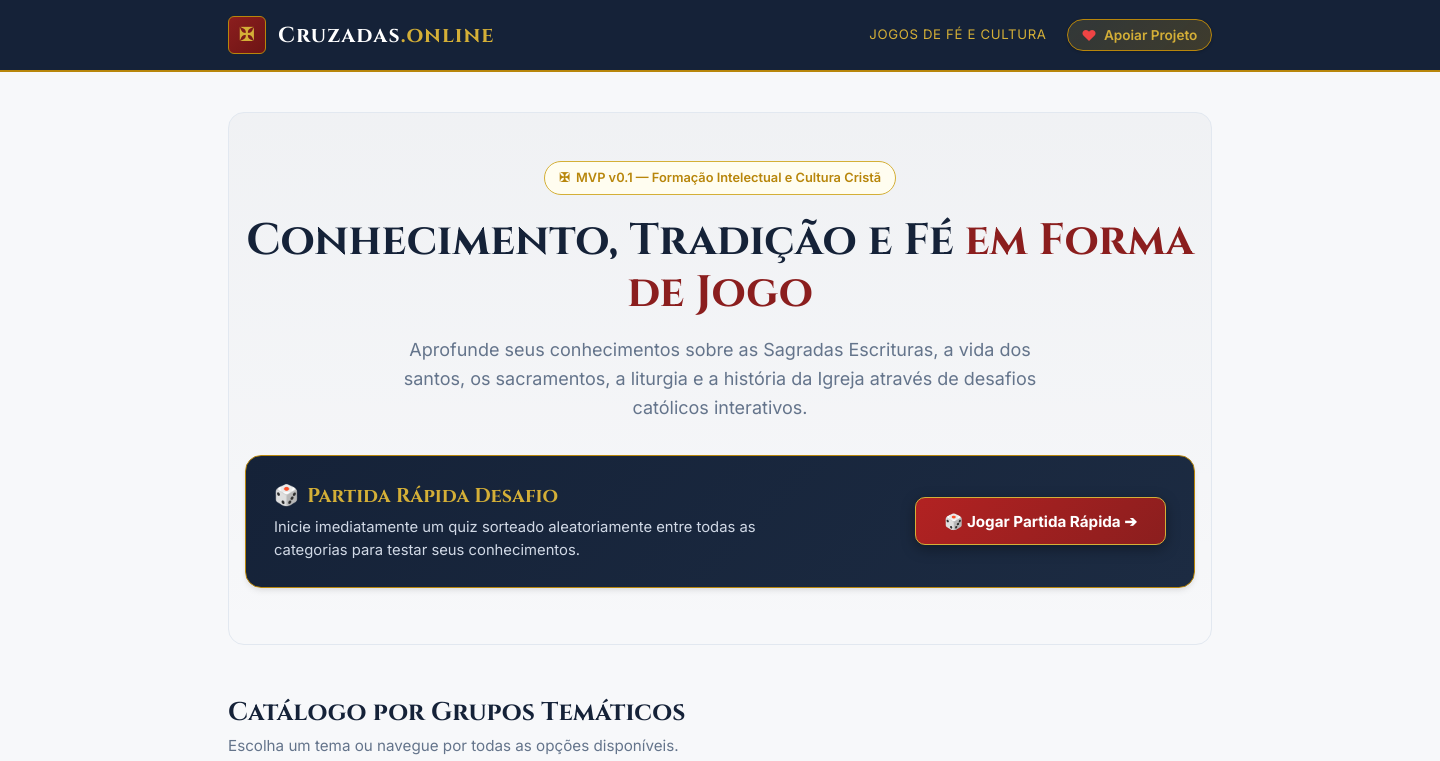
Test: Fluxo Completo do Quiz Católico no Cruzadas.online › deve permitir iniciar uma partida rápida com quiz aleatório a partir do botão hero da home
The image size is (1440, 761).
Check: the heading "🎲 Partida Rápida Desafio" is shown, box [274, 482, 558, 509]
Step 1. Click the button with aria-label "jogar partida rápida com quiz aleatório" → (1041, 521), box [915, 497, 1166, 545]
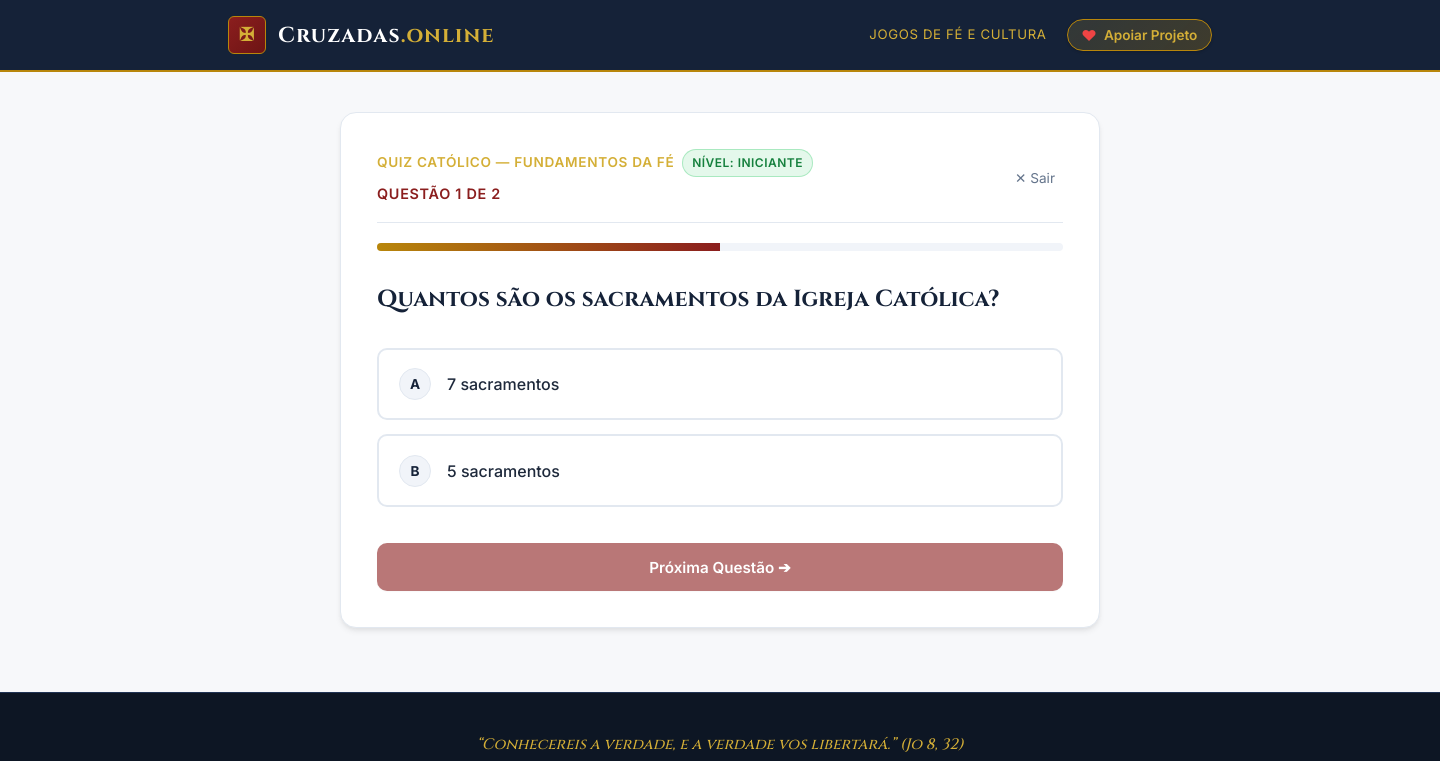
Check: the heading "Quantos são os sacramentos da Igreja Católica?" is shown, box [377, 283, 1063, 316]
Step 2. Click the text "7 sacramentos" → (503, 384), box [447, 374, 559, 394]
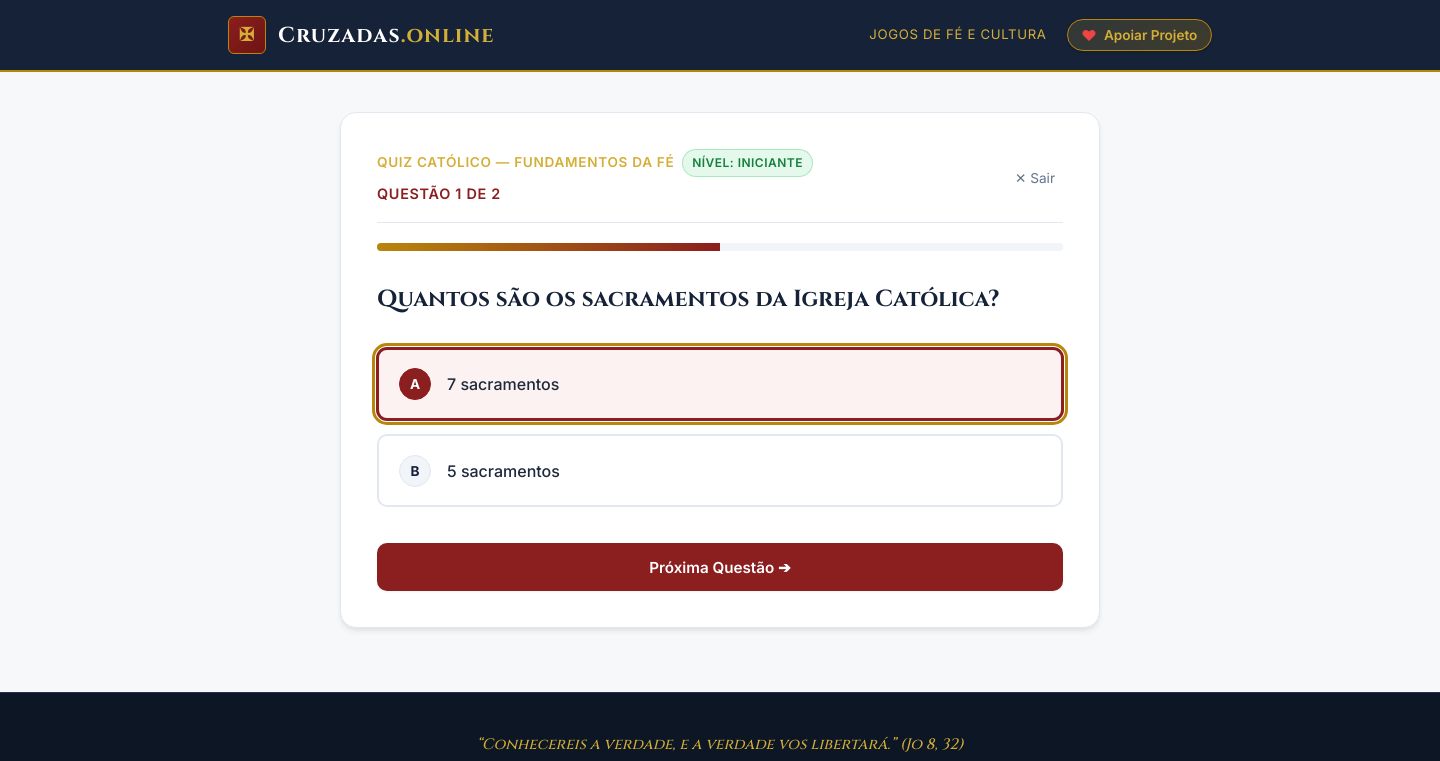
Step 3. Click the button "Próxima Questão ➔" → (720, 567), box [377, 543, 1063, 591]
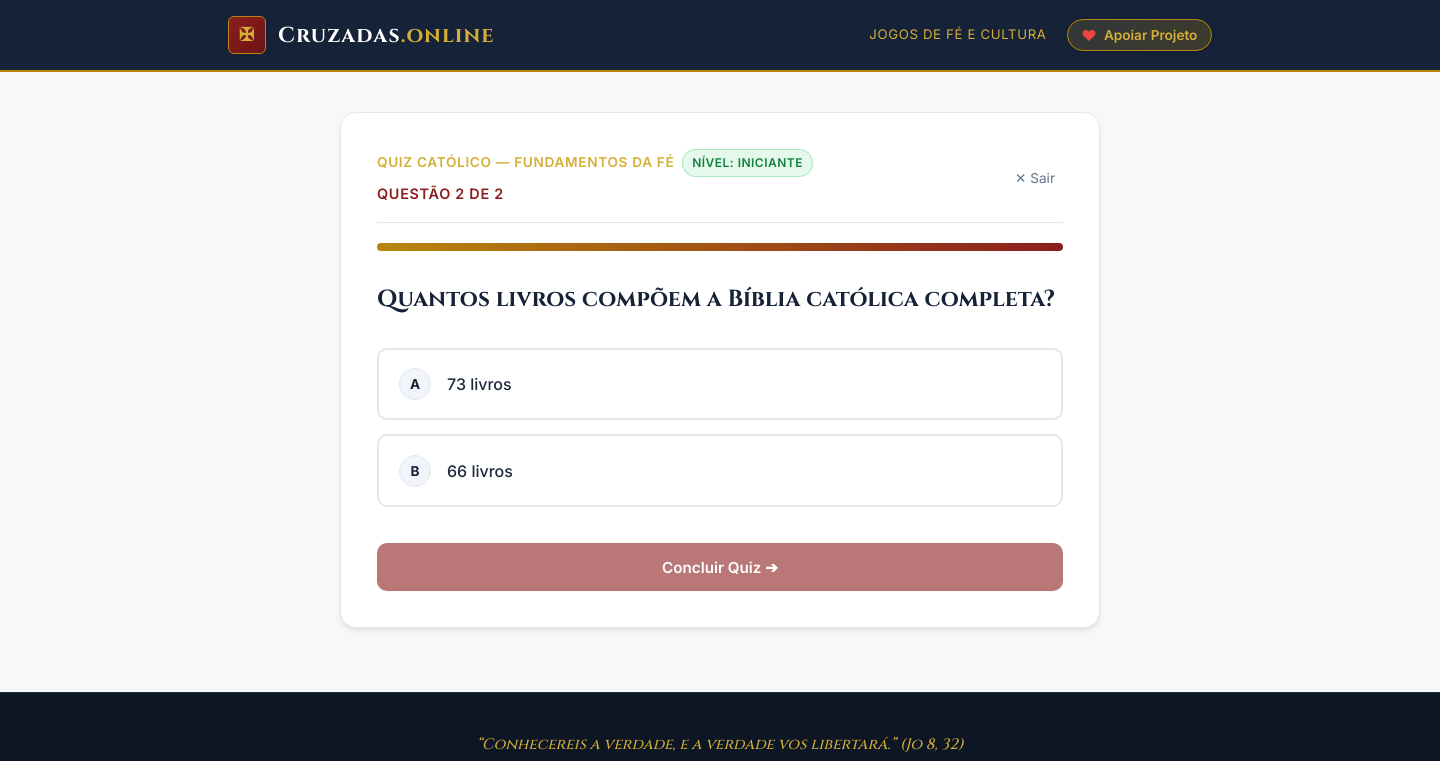
Check: the heading "Quantos livros compõem a Bíblia católica completa?" is shown, box [377, 283, 1063, 316]
Step 4. Click the text "73 livros" → (479, 384), box [447, 374, 512, 394]
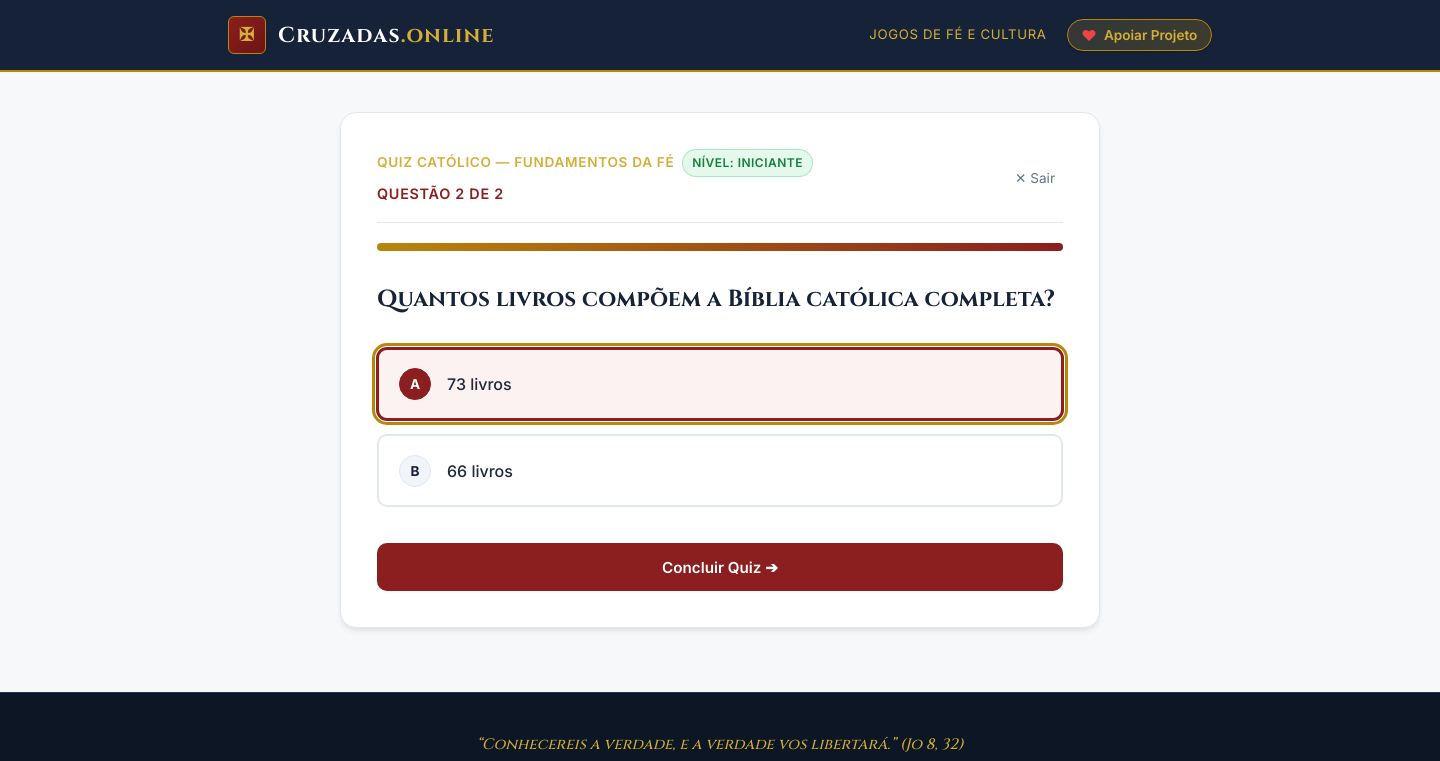
Note: Finalizar Partida
Step 5. Click the button "Concluir Quiz ➔" → (720, 567), box [377, 543, 1063, 591]
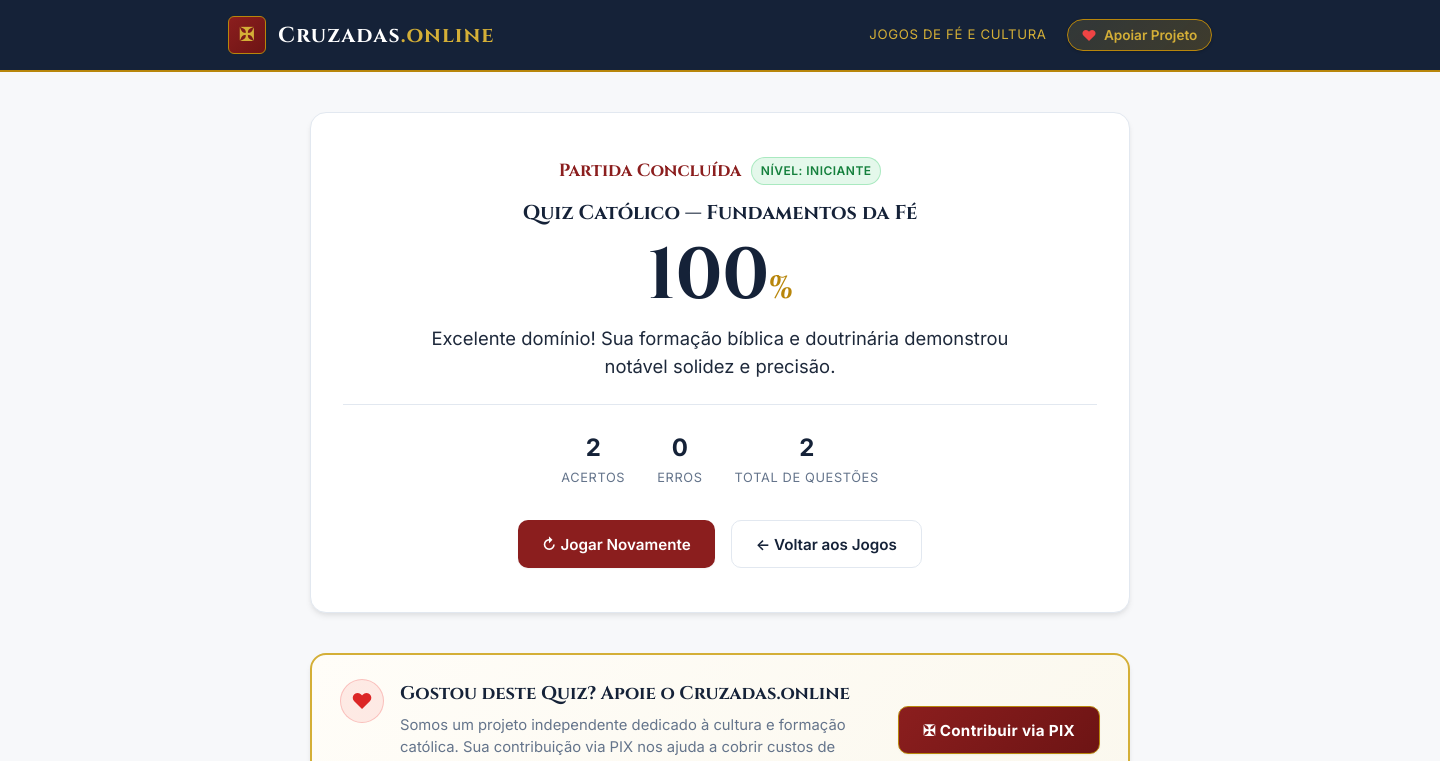
Check: the text "Partida Concluída" is shown, box [559, 157, 741, 185]
Check: the heading "100%" is shown, box [647, 228, 793, 325]
